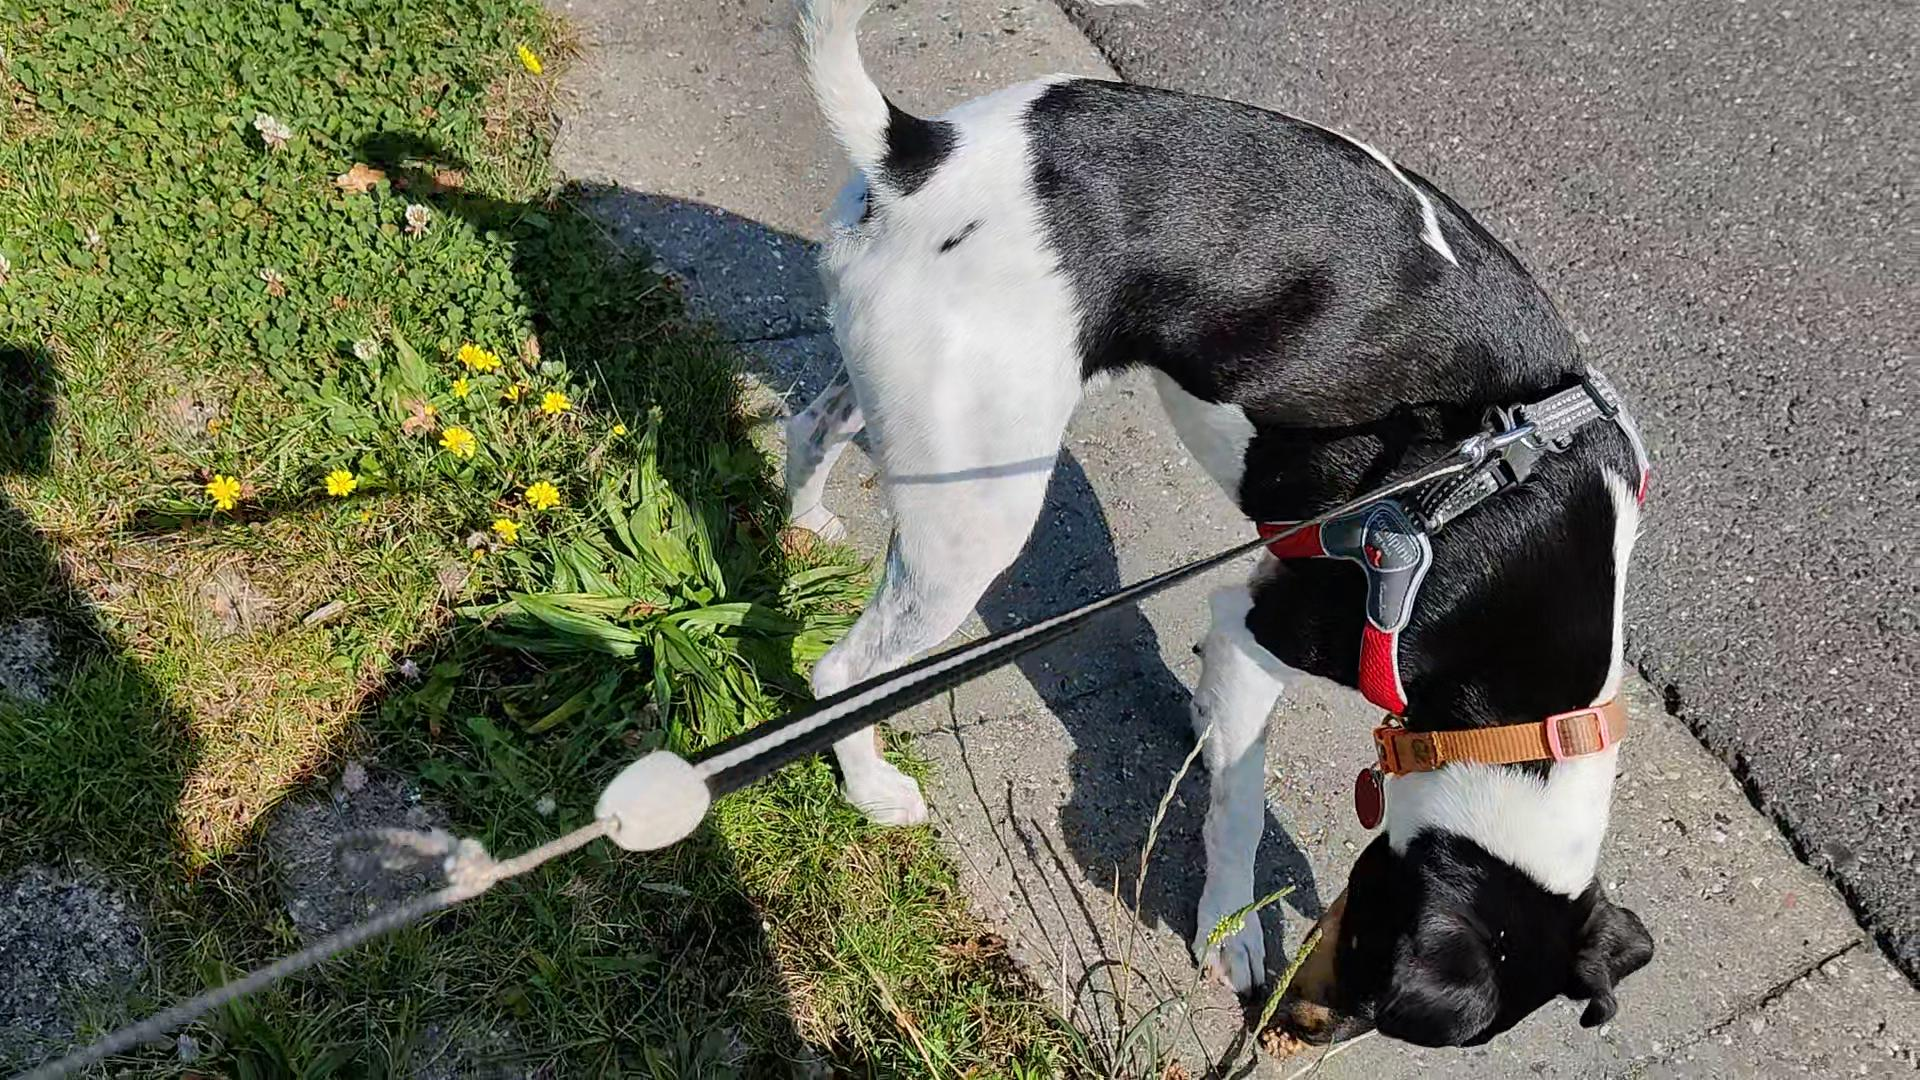Dog: (775, 0, 1644, 1060)
